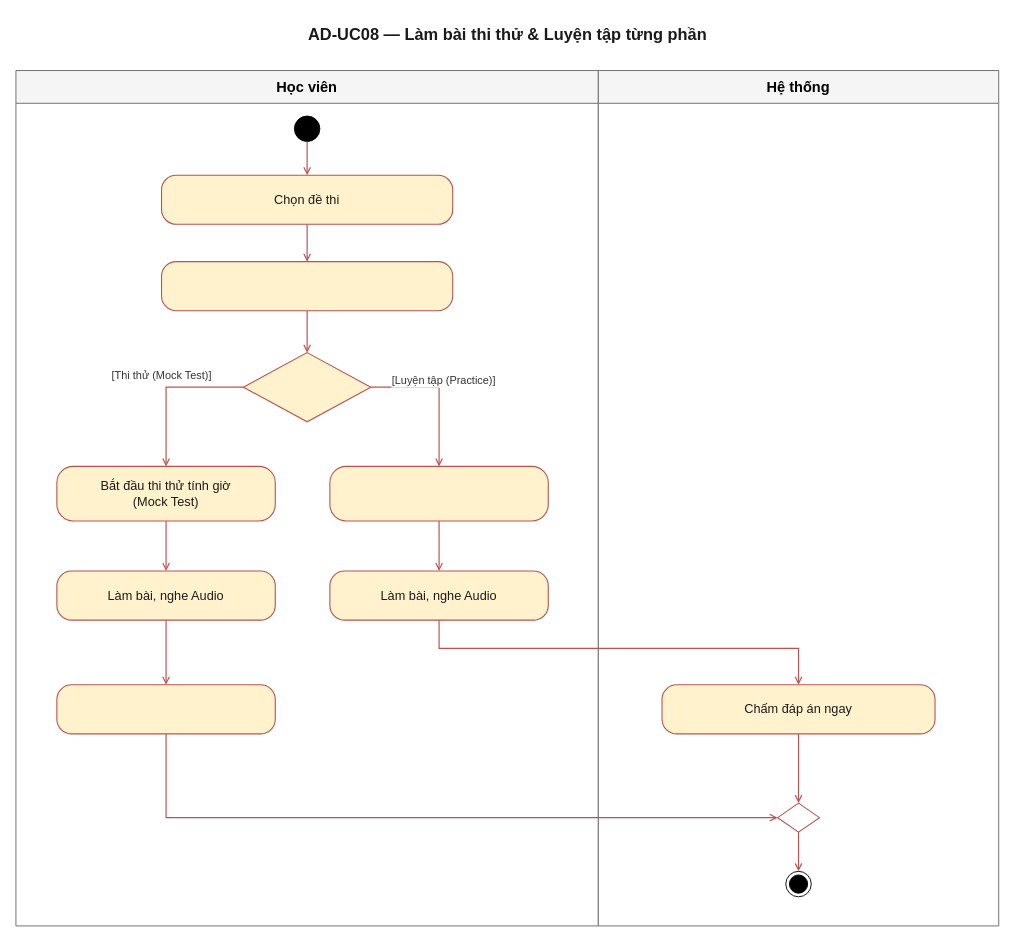
This 1015x942 diagram has some shape labels left out. The shapes that lost their labels are listed below. From the top down, each one's box as (x1, y1, x2, y2) in pixels, then its label:
(161, 261, 453, 311): Chọn chế độ làm bài
(242, 352, 371, 422): Chế độ đã chọn?
(329, 465, 548, 521): Bắt đầu luyện tập từng phần (Practice)
(56, 684, 275, 734): Nộp bài tổng kết
